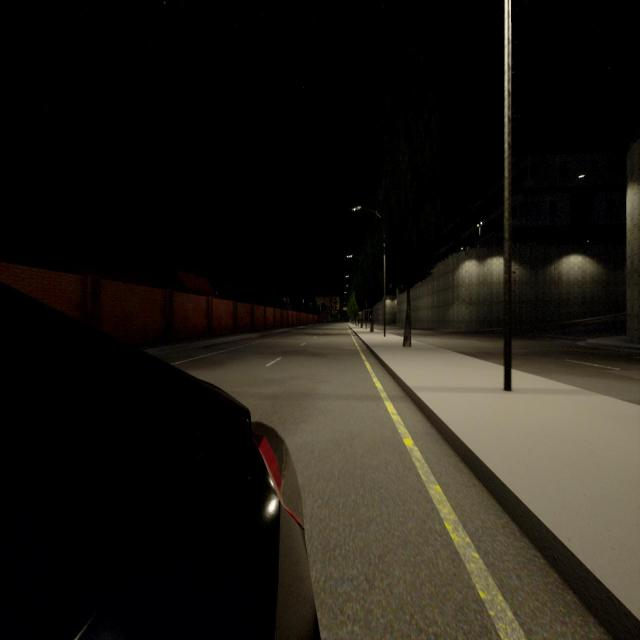Vehicle: (0, 290, 310, 638)
